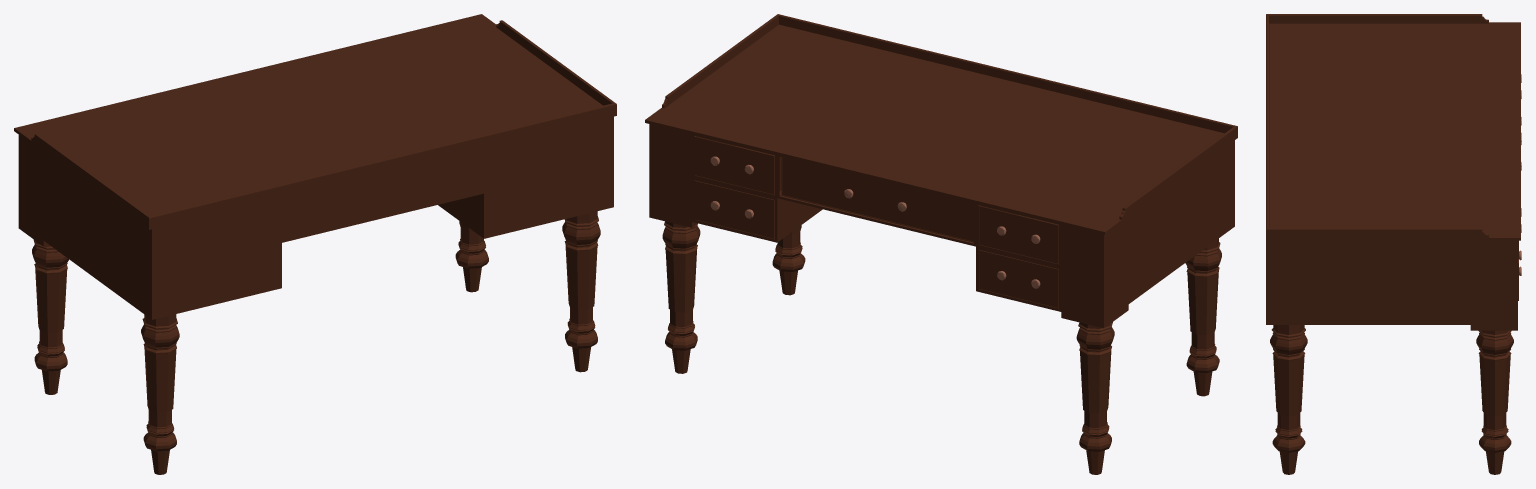
Rendered from table.glb.
The picture shows the model from 3 angles, left to right: view 1: azimuth 30°, elevation 25°; view 2: azimuth 150°, elevation 25°; view 3: azimuth 270°, elevation 25°; orthographic projection. The views are drawn at different scales.
Parts seen in each view (by area): view 1: table_top, table_structure, leg_l_front; view 2: table_top, table_structure, leg_l_front, table_drawers_,middle, table_drawers_top, table_drawers_bottom, Knobs; view 3: table_top, table_structure, leg_l_front.
Boxes of the visible parts, box(x1,y1,x2,y2) form: table_top: box(14, 14, 616, 229); table_structure: box(18, 116, 613, 319); leg_l_front: box(32, 211, 600, 474); table_top: box(645, 14, 1237, 234); table_structure: box(649, 124, 1234, 328); leg_l_front: box(662, 221, 1221, 474); table_drawers_,middle: box(781, 157, 978, 242); table_drawers_top: box(694, 136, 1058, 264); table_drawers_bottom: box(694, 180, 1058, 308); Knobs: box(710, 156, 1040, 288); table_top: box(1266, 14, 1520, 240); table_structure: box(1266, 240, 1517, 330); leg_l_front: box(1270, 325, 1513, 474).
Bounding box in the file's own units: 1.62 × 0.89 × 0.8127.
